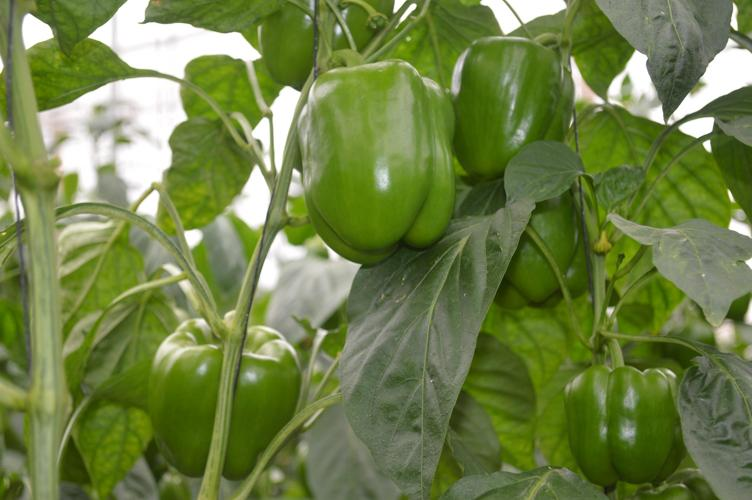BellPepper: (287, 66, 459, 258), (139, 313, 305, 478), (448, 27, 589, 185), (553, 362, 690, 494), (480, 193, 596, 321)
